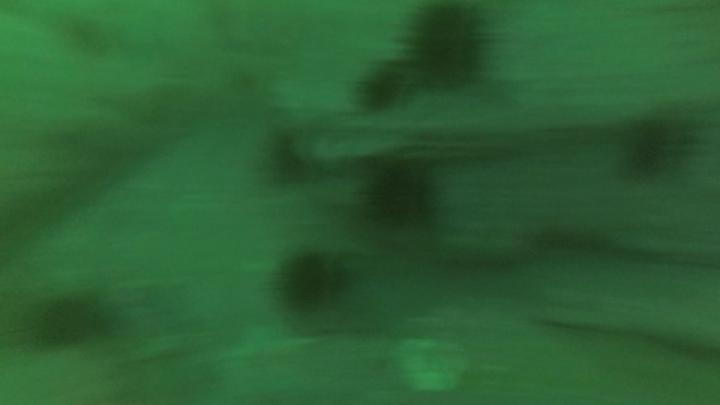echinus: (389, 4, 508, 98), (351, 154, 447, 234), (11, 288, 110, 352), (277, 249, 346, 320), (627, 114, 685, 176), (265, 130, 311, 186), (359, 62, 406, 110)
